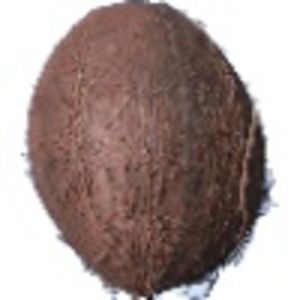coco: (25, 1, 276, 300)
